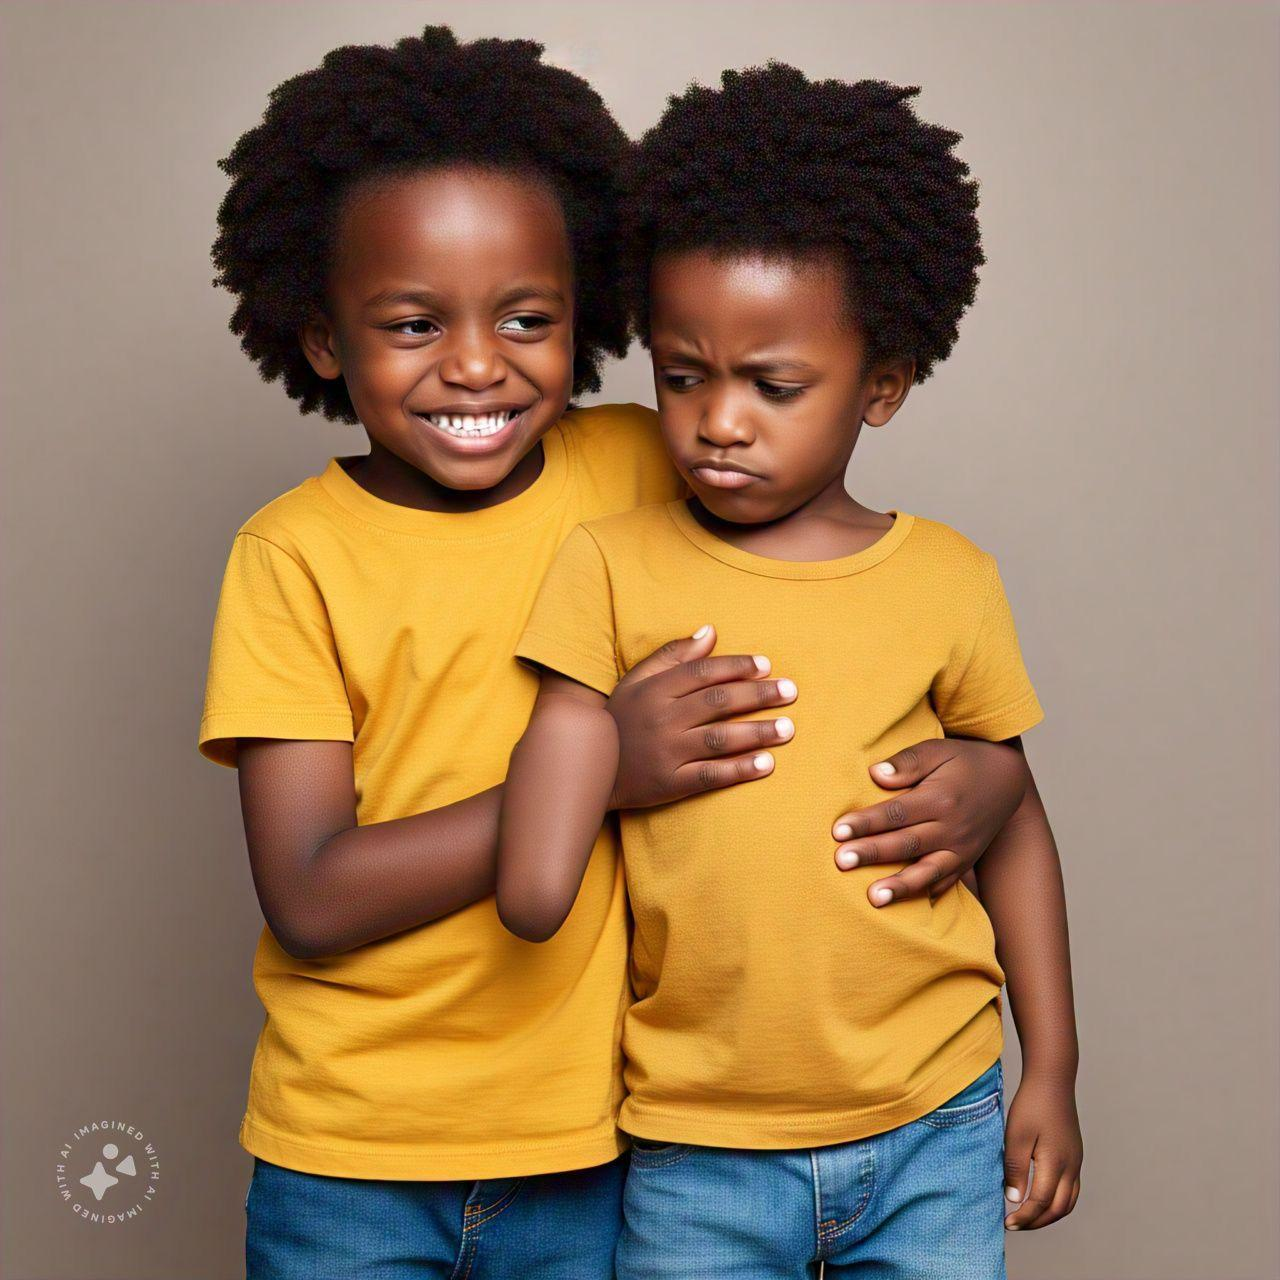feliz: (288, 98, 588, 498)
triste: (640, 186, 880, 530)
